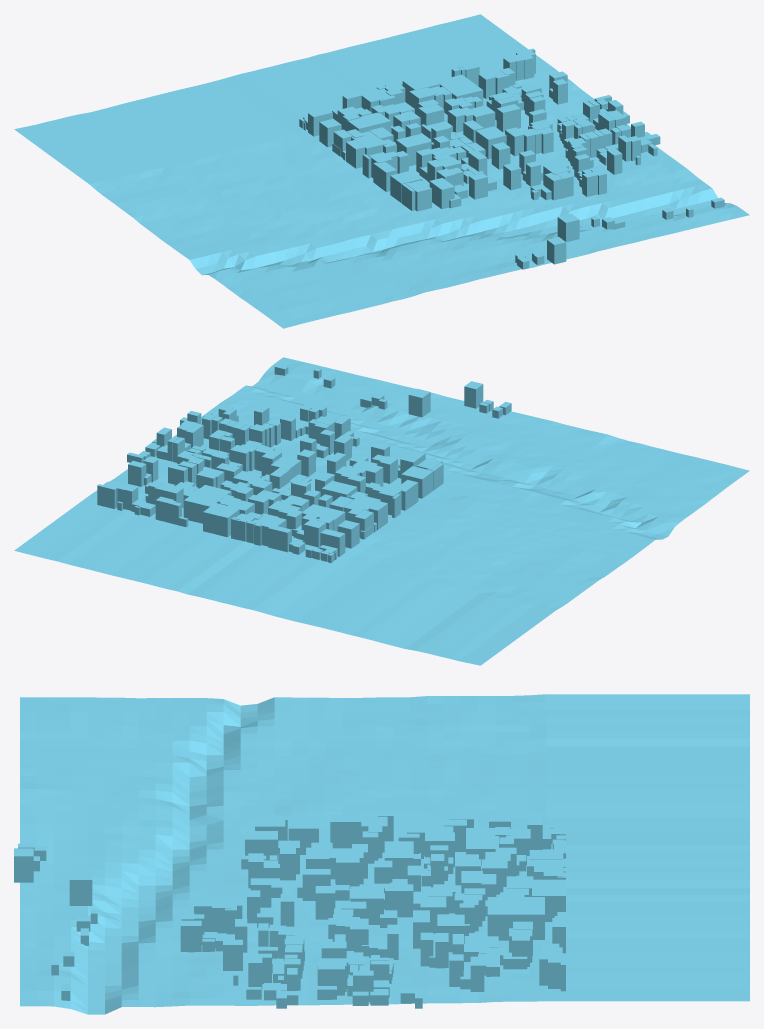
Rendered from urban_model.gltf.
3 views of the same model, one above another, from view 1: azimuth 30°, elevation 25°; view 2: azimuth 150°, elevation 25°; view 3: azimuth 270°, elevation 25° (orthographic). The views are drawn at different scales.
Visible parts, largest first — view 1: JapanProperty3DMesh; view 2: JapanProperty3DMesh; view 3: JapanProperty3DMesh.
Boxes of the visible parts, <box> form: JapanProperty3DMesh: <box>14,14,749,328</box>; JapanProperty3DMesh: <box>14,357,749,665</box>; JapanProperty3DMesh: <box>14,694,749,1014</box>.
Bounding box in the file's own units: 447 × 26.56 × 444.
